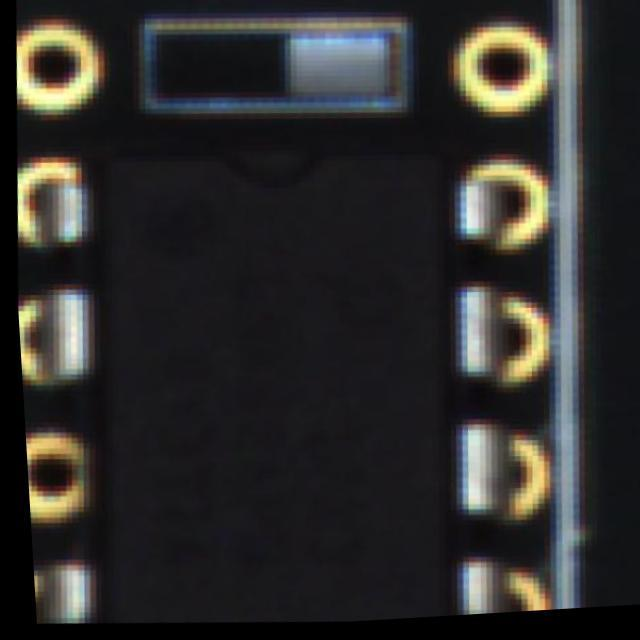IC: (10, 26, 522, 640)
